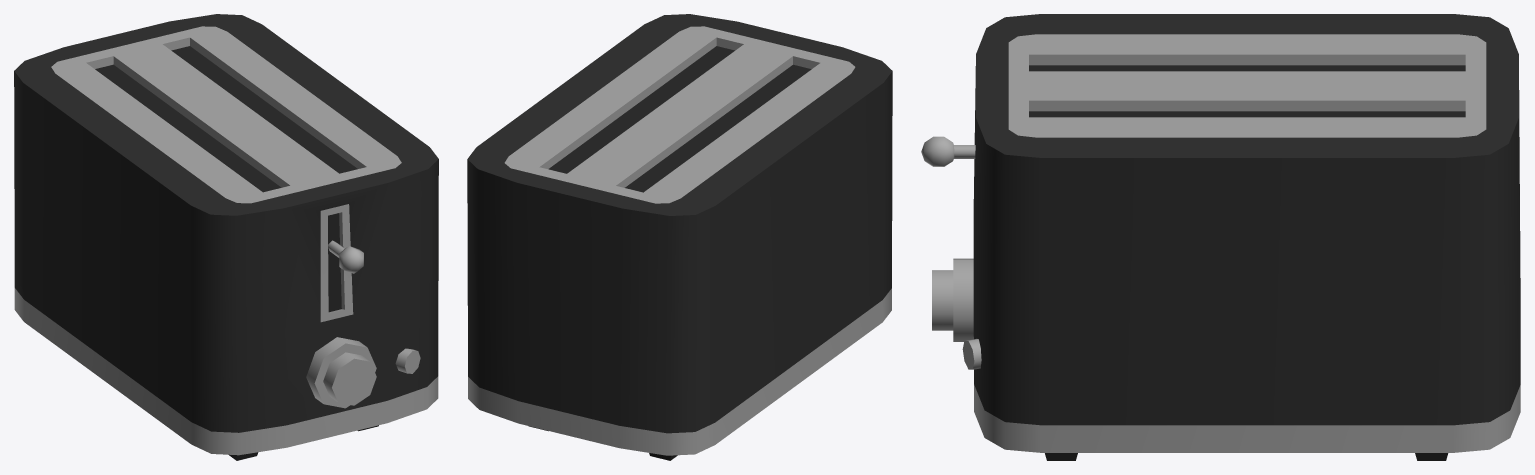
The model's file is Toaster_01.fbx.
3 views of the same model, side by side, from view 1: azimuth 30°, elevation 25°; view 2: azimuth 150°, elevation 25°; view 3: azimuth 270°, elevation 25° (orthographic). The views are drawn at different scales.
Parts seen in each view (by area): view 1: Toaster_01, Toaster_01_Switch; view 2: Toaster_01; view 3: Toaster_01, Toaster_01_Switch.
Part boxes in pixels (left/top/right/bottom): Toaster_01: left=14, top=14, right=438, bottom=460; Toaster_01_Switch: left=328, top=240, right=363, bottom=273; Toaster_01: left=467, top=14, right=892, bottom=460; Toaster_01: left=932, top=14, right=1520, bottom=460; Toaster_01_Switch: left=921, top=136, right=975, bottom=166.
Size of the model in its own units: 0.1728 by 0.186 by 0.3043.
